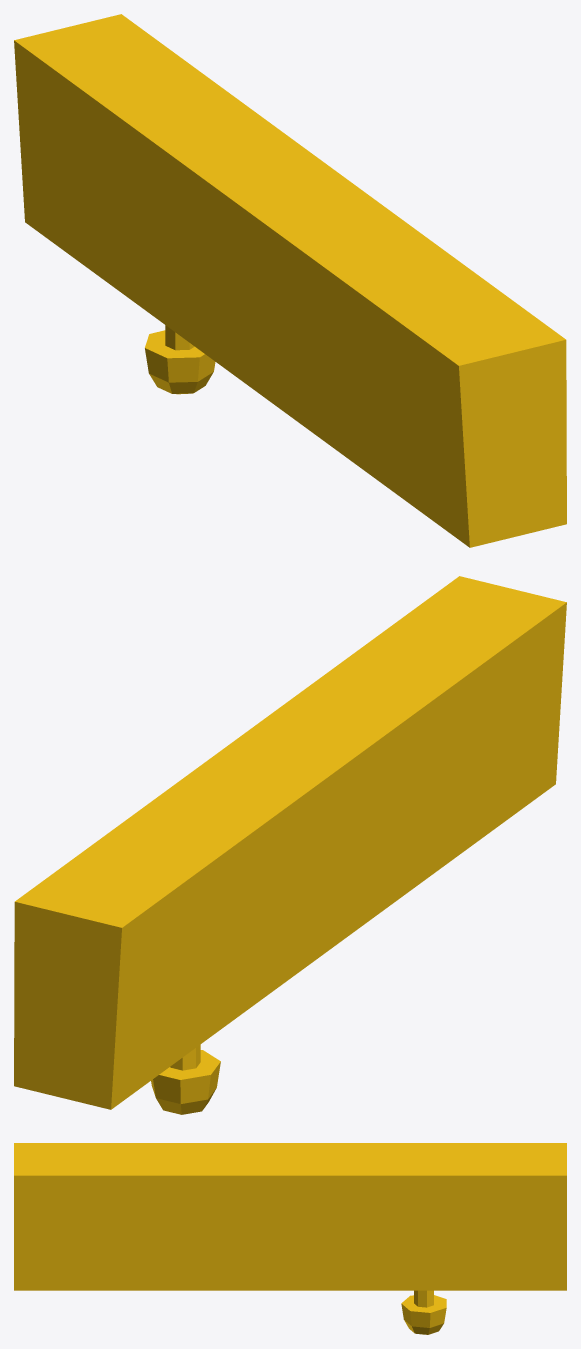
File: key_top_bar.obj
3 renders of one model, top to bottom at view 1: azimuth 30°, elevation 25°; view 2: azimuth 150°, elevation 25°; view 3: azimuth 270°, elevation 25°, orthographic. The views are drawn at different scales.
Visible parts, largest first — view 1: white_keys.009_Cube.048; view 2: white_keys.009_Cube.048; view 3: white_keys.009_Cube.048.
Part boxes in pixels (x1,y1,x2,y2): white_keys.009_Cube.048: [14, 14, 566, 547]; white_keys.009_Cube.048: [14, 576, 566, 1114]; white_keys.009_Cube.048: [14, 1143, 566, 1334].
Bounding box in the file's own units: 0.00677 × 0.0167 × 0.0482.
1 material, 1 textured.
